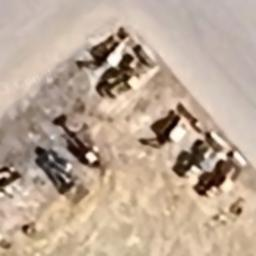others: (95, 43, 160, 101), (190, 150, 250, 200), (173, 130, 231, 179), (154, 99, 200, 151)
